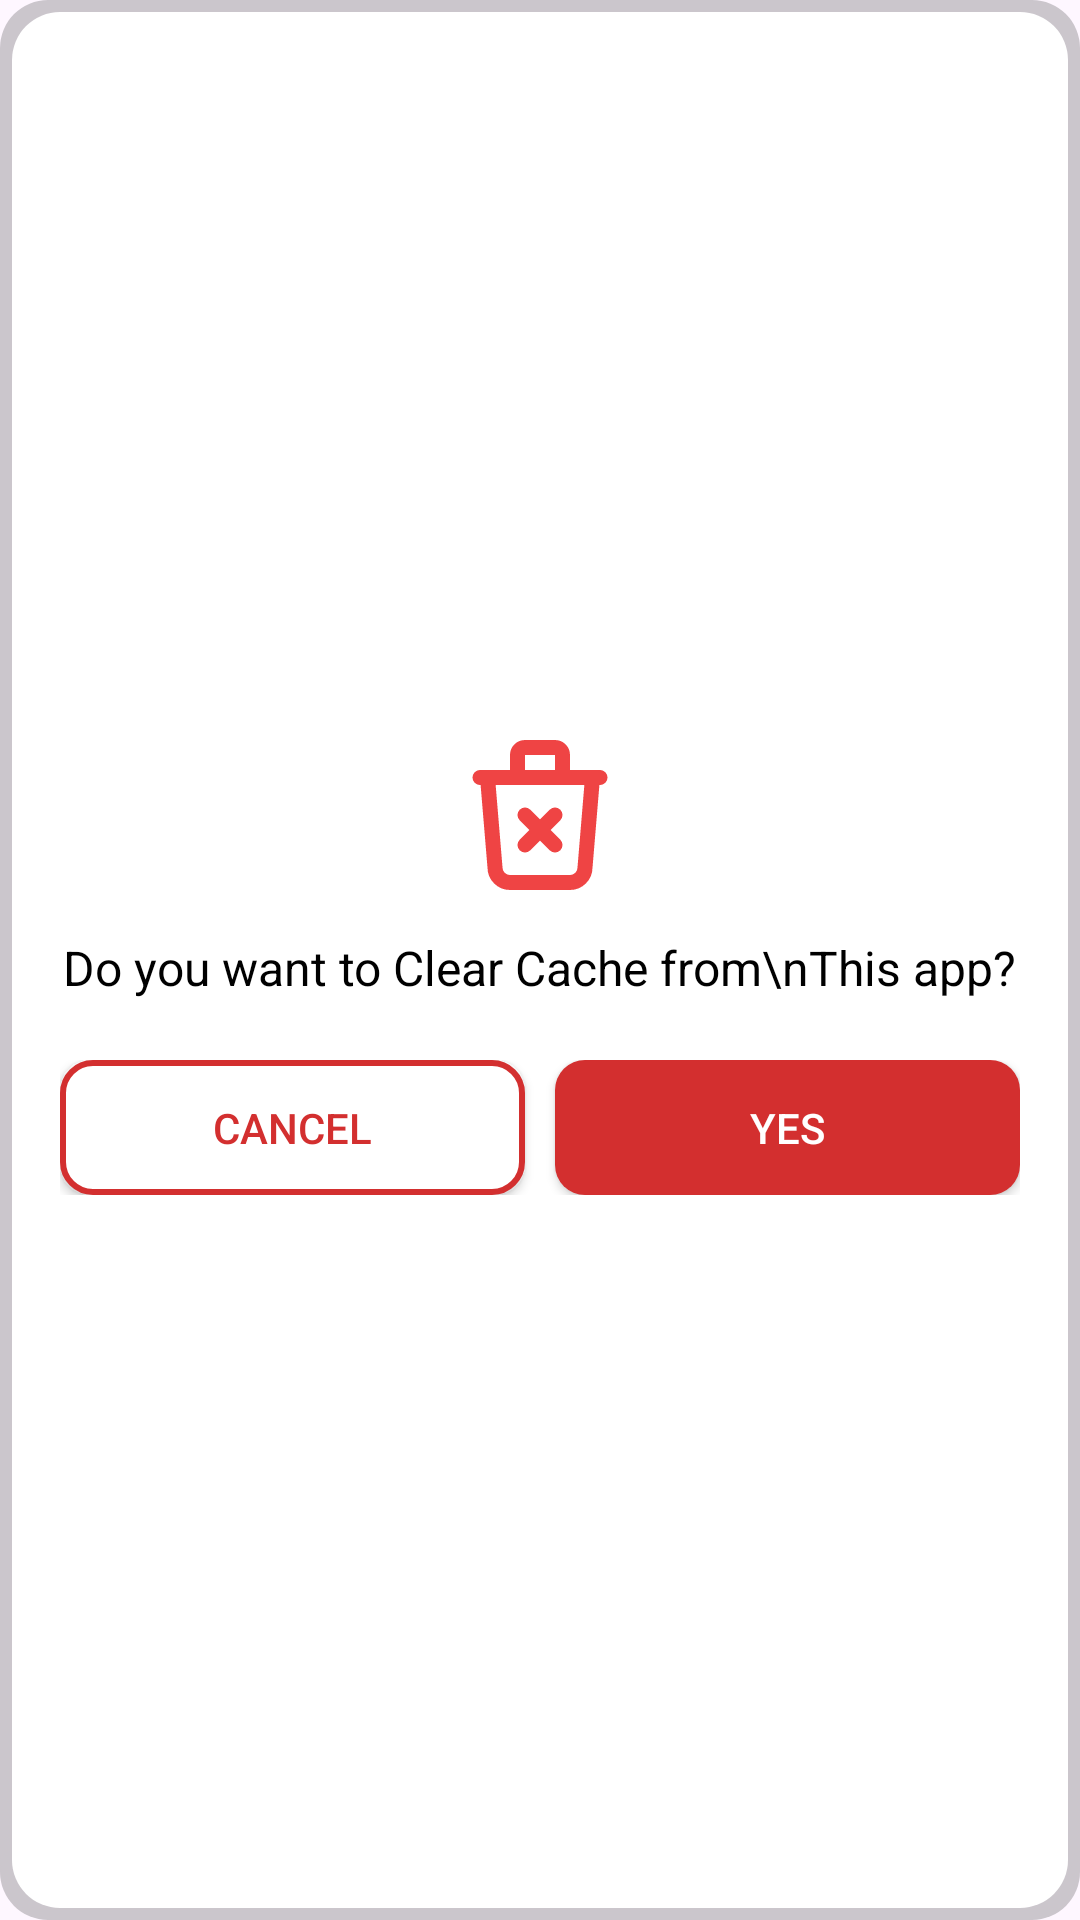

Where to tap for icons on this 1080w x 1920h app screen, as (x,y):
tabler trash: (540,815)
